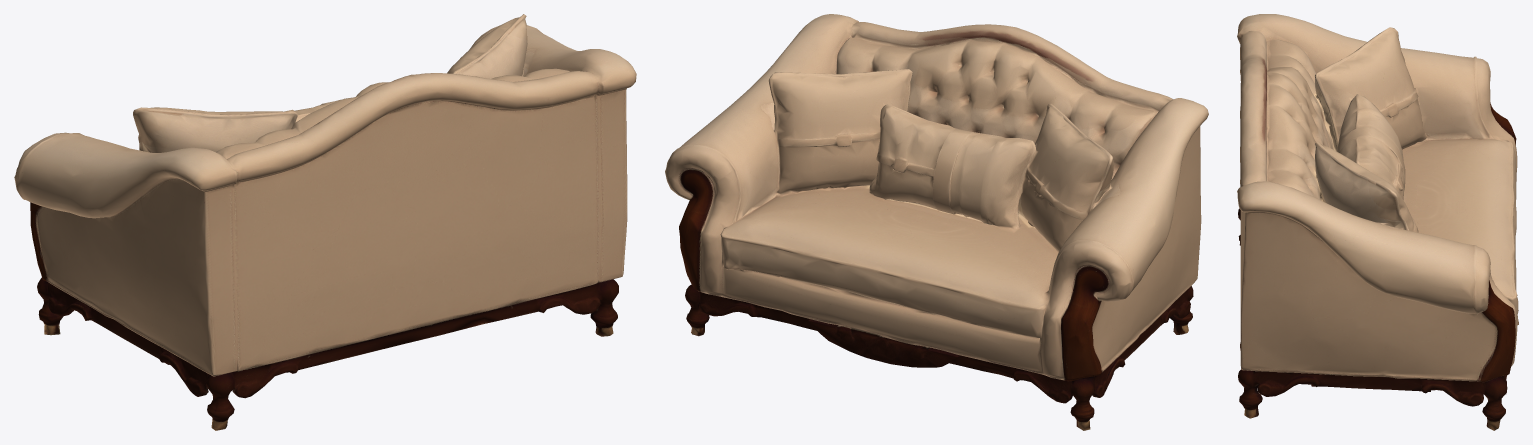
The model's file is fahrenheit-loveseat.glb.
3 views of the same model, side by side, from view 1: azimuth 30°, elevation 25°; view 2: azimuth 150°, elevation 25°; view 3: azimuth 270°, elevation 25° (orthographic). The views are drawn at different scales.
Size of the model in its own units: 2 by 1.08 by 1.06.
1 material, 1 textured.
